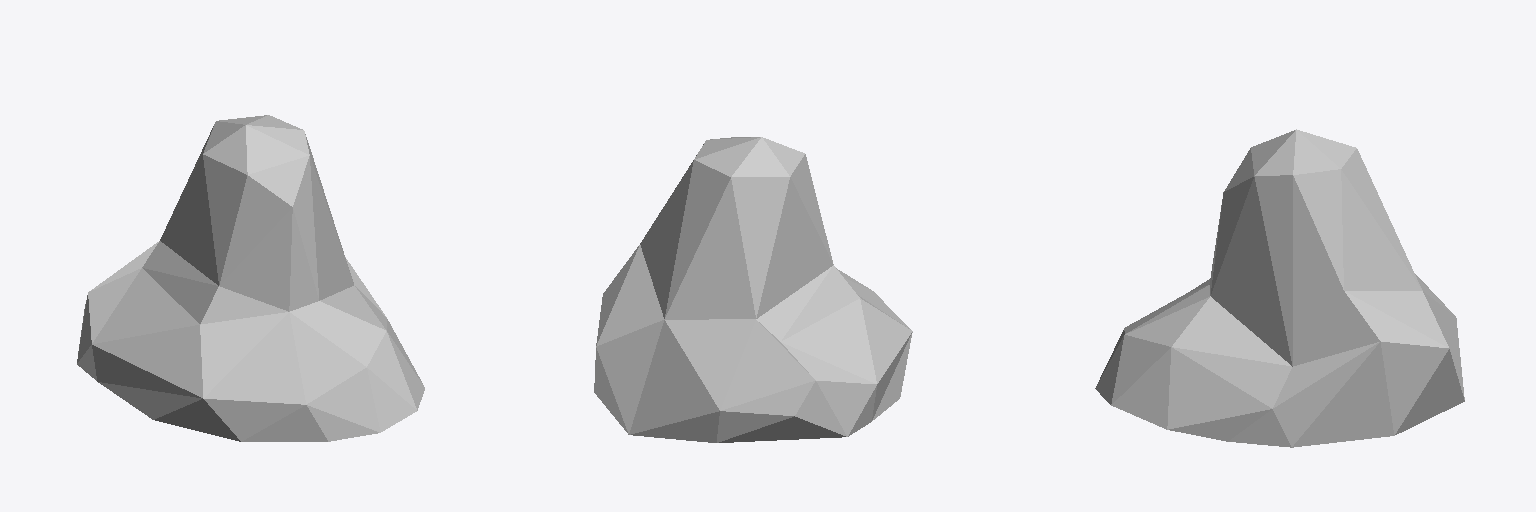
The model's file is stone52.obj.
3 views of the same model, side by side, from view 1: azimuth 30°, elevation 25°; view 2: azimuth 150°, elevation 25°; view 3: azimuth 270°, elevation 25° (orthographic).
Parts seen in each view (by area): view 1: stone5_Group1.004; view 2: stone5_Group1.004; view 3: stone5_Group1.004.
Boxes of the visible parts, x1=… form: stone5_Group1.004: x1=77, y1=115, x2=424, y2=441; stone5_Group1.004: x1=594, y1=137, x2=912, y2=442; stone5_Group1.004: x1=1095, y1=129, x2=1464, y2=447.
Size of the model in its own units: 2.42 by 2.12 by 2.83.